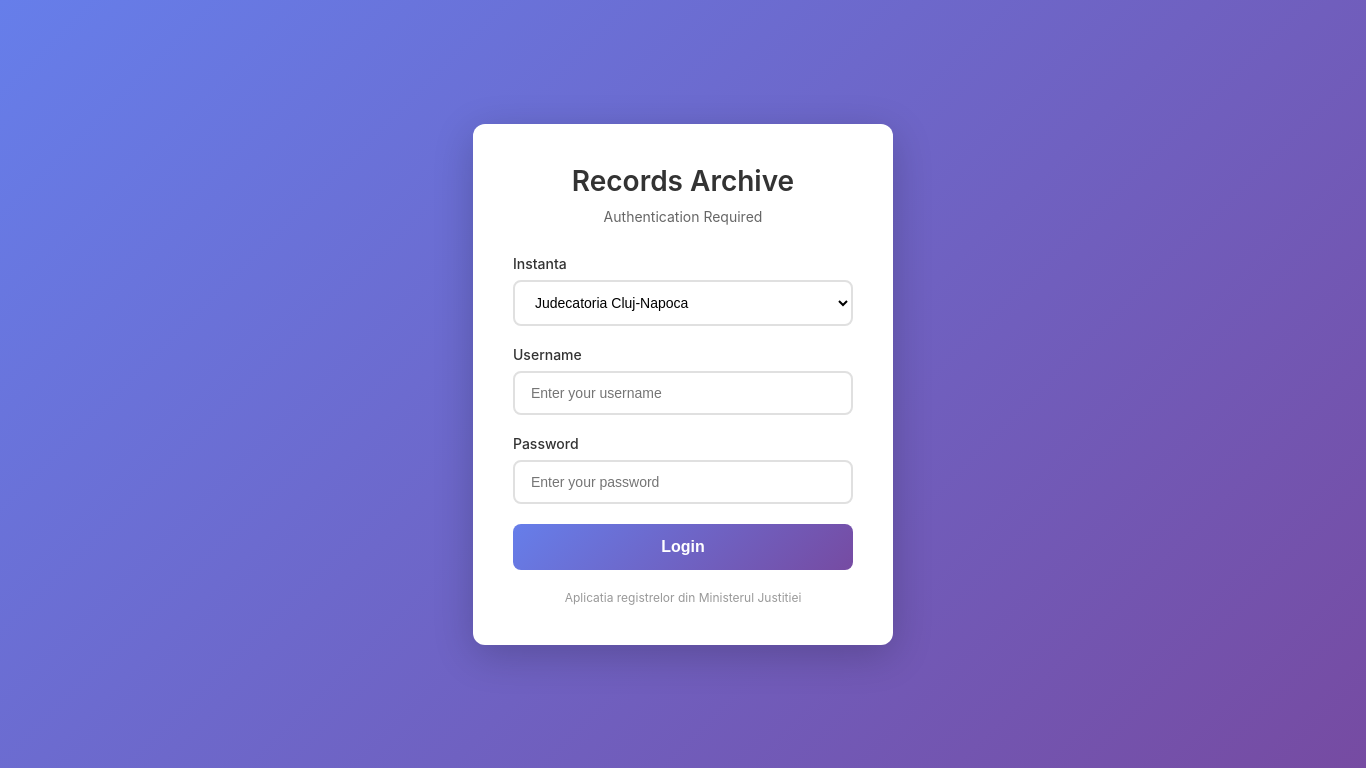
LoginPage › should show error when username is empty
Click the button "Login": (683, 546) [513,524,853,570]
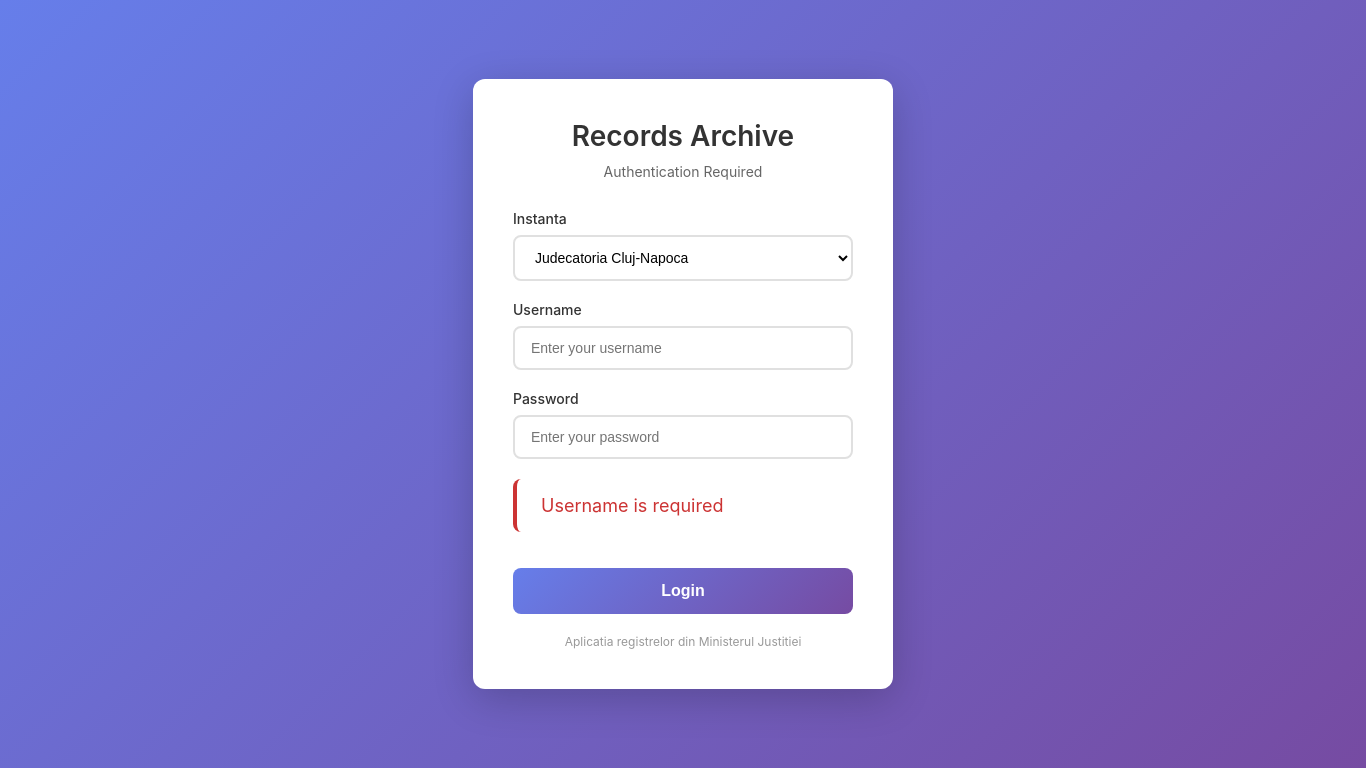
Now the text "Username is required" is shown, box [513,479,853,532]
